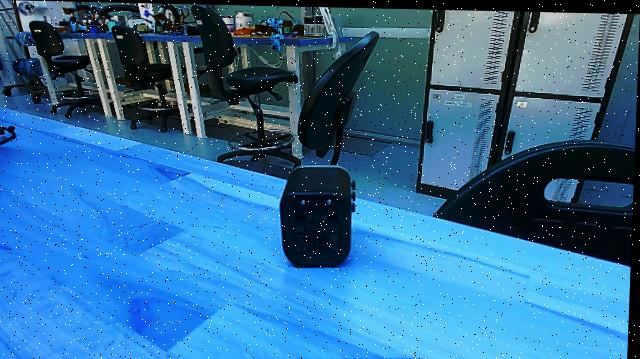adapter: (278, 158, 360, 271)
